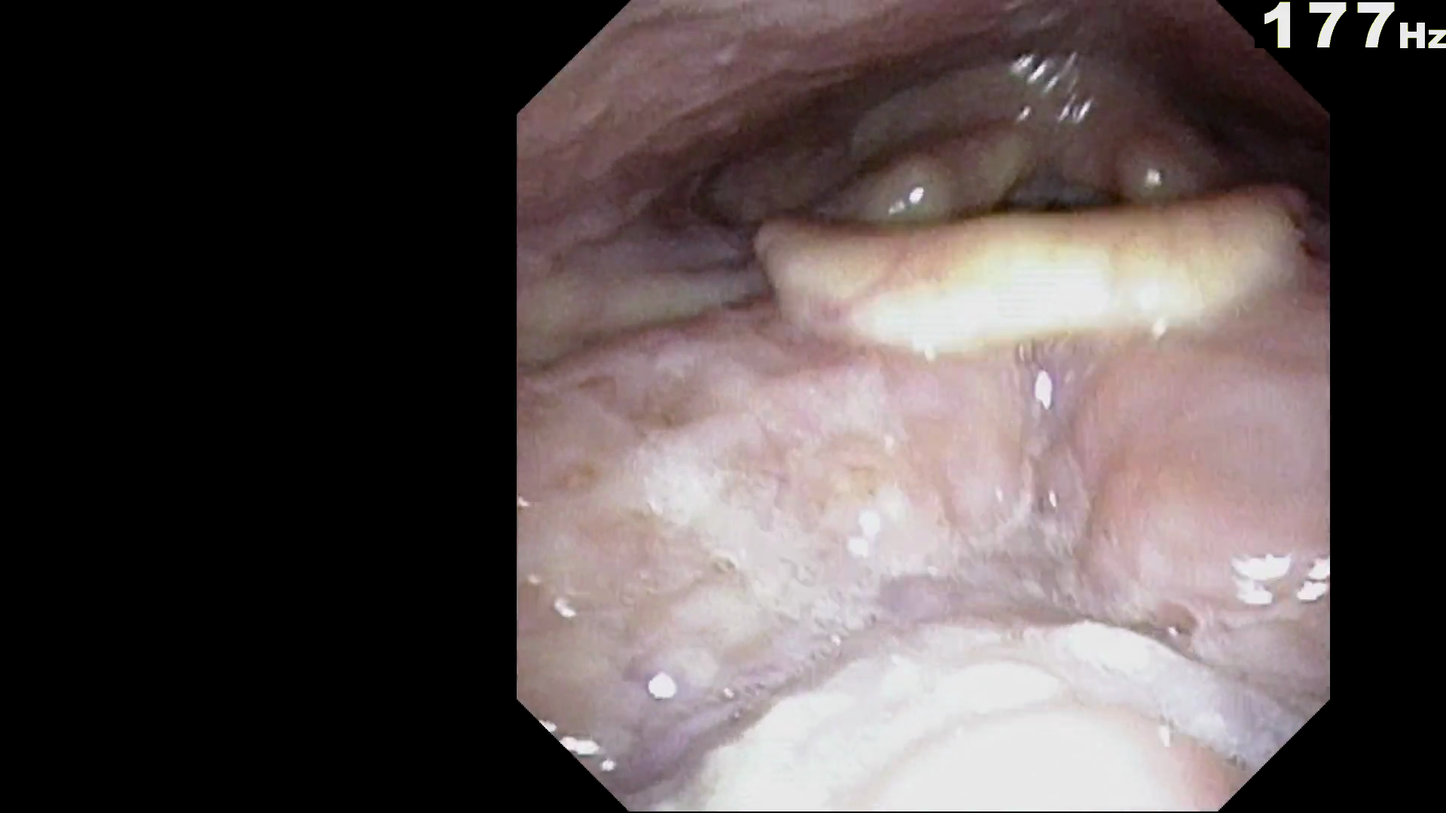epiglottis: (736, 174, 1310, 458)
trachea: (978, 140, 1125, 294)
